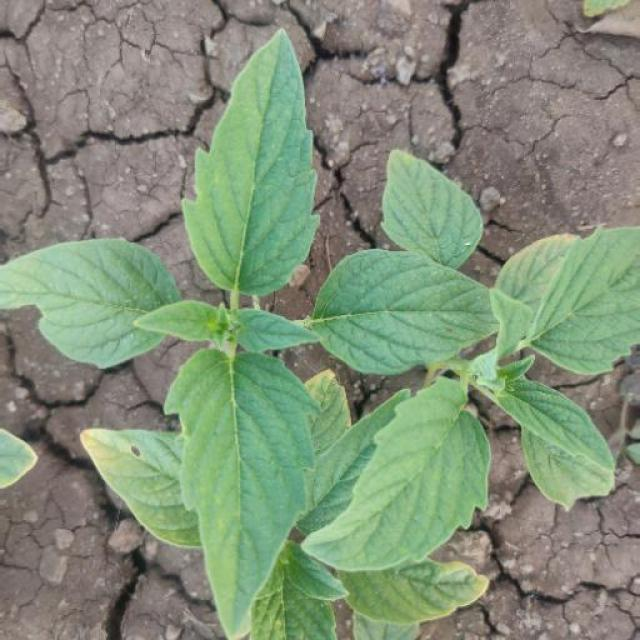crop: (1, 26, 628, 606)
